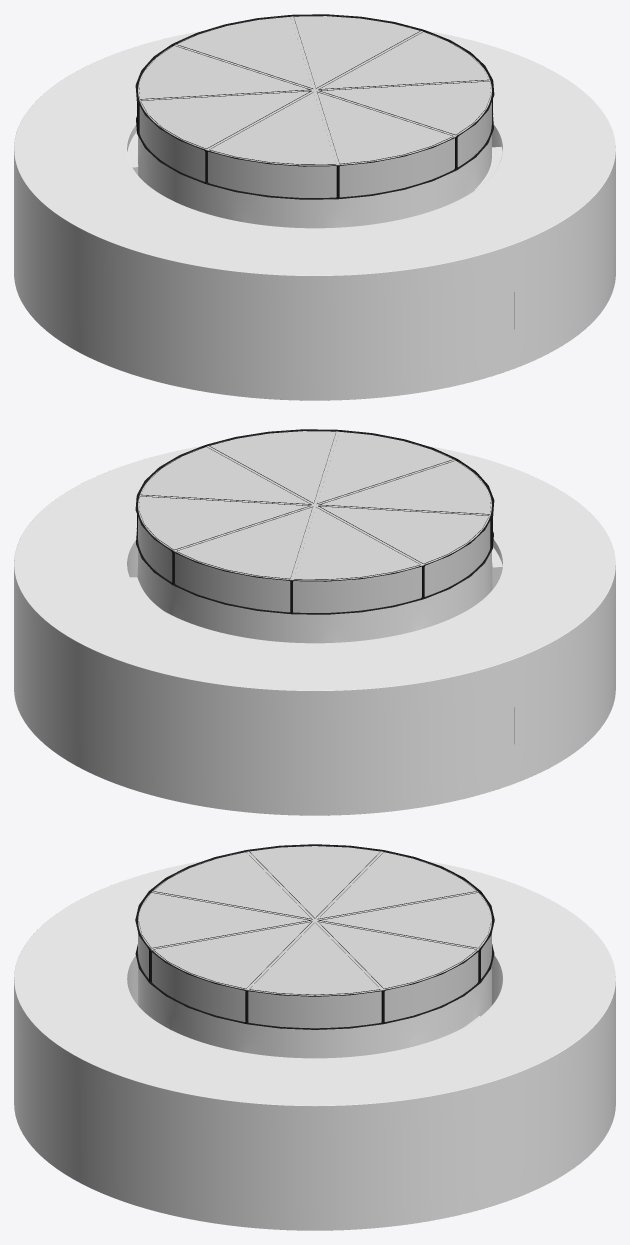
Rendered from ArtGallery.fbx.
3 views of the same model, one above another, from view 1: azimuth 30°, elevation 25°; view 2: azimuth 150°, elevation 25°; view 3: azimuth 270°, elevation 25° (orthographic).
Parts seen in each view (by area): view 1: Walls, CeillingWire; view 2: Walls, CeillingWire; view 3: Walls, CeillingWire.
Part boxes in pixels (<box>): Walls: <box>14,16,615,400</box>; CeillingWire: <box>135,14,494,199</box>; Walls: <box>14,431,615,815</box>; CeillingWire: <box>135,429,494,614</box>; Walls: <box>14,846,615,1230</box>; CeillingWire: <box>135,844,494,1029</box>.
Bounding box in the file's own units: 1639 × 551 × 1640.
Materials: 9 (3 with a texture image).
